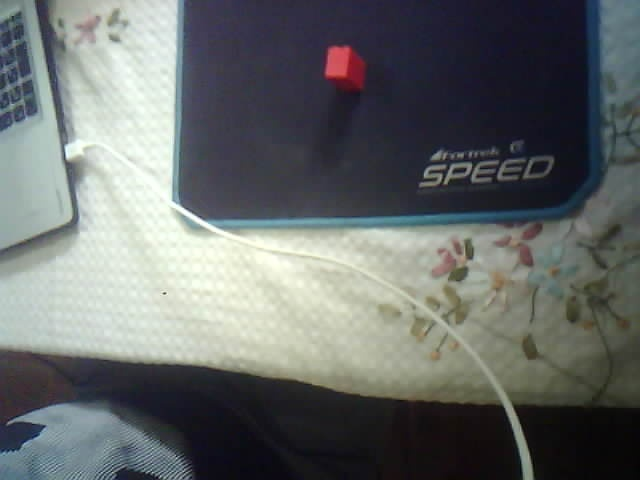lego: (323, 44, 367, 92)
